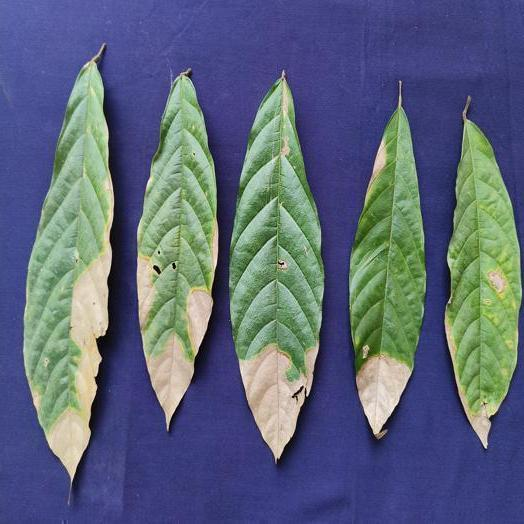Potassium: (23, 44, 113, 484), (230, 71, 323, 460), (137, 69, 217, 430), (349, 82, 425, 438), (445, 97, 521, 448)
